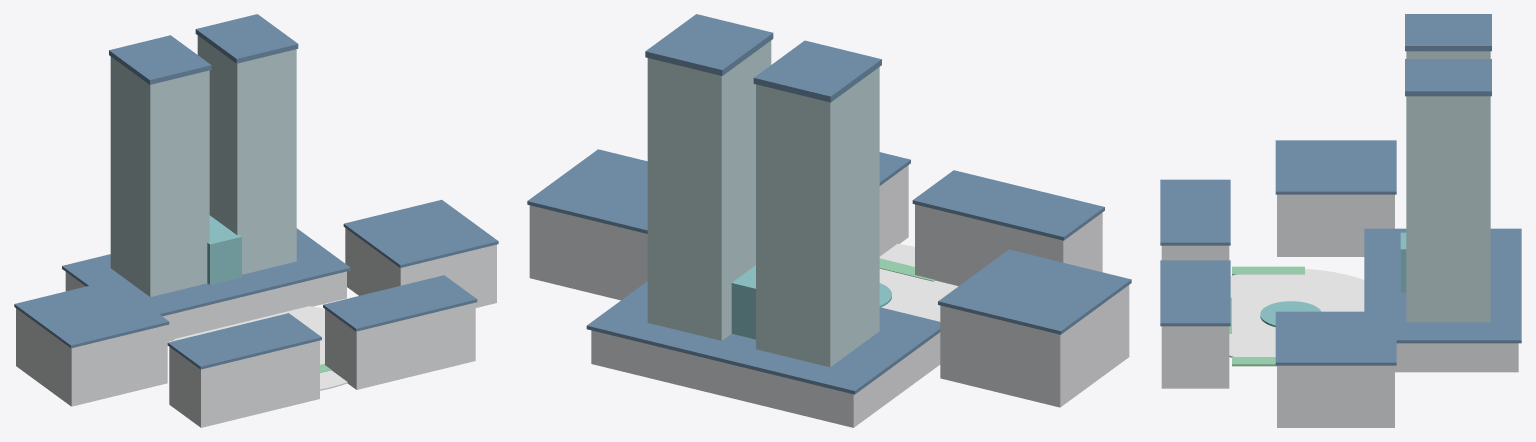
The model's file is syria-towers-massing.glb.
The picture shows the model from 3 angles, left to right: view 1: azimuth 30°, elevation 25°; view 2: azimuth 150°, elevation 25°; view 3: azimuth 270°, elevation 25°; orthographic projection. The views are drawn at different scales.
Parts seen in each view (by area): view 1: syria-towers-massing; view 2: syria-towers-massing; view 3: syria-towers-massing.
Boxes of the visible parts, x1,y1,x2,y2 form: syria-towers-massing: [14, 14, 498, 427]; syria-towers-massing: [527, 14, 1131, 427]; syria-towers-massing: [1160, 14, 1521, 427].
Bounding box in the file's own units: 187 × 104 × 128.
